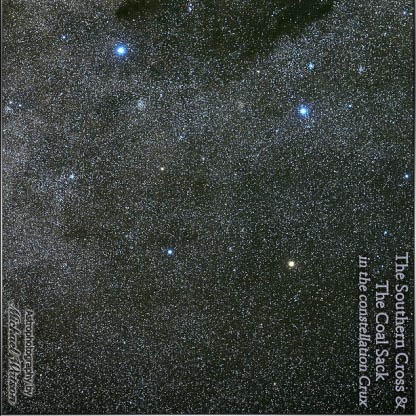Southern Cross: (106, 31, 137, 64), (156, 237, 184, 267), (289, 96, 318, 122), (278, 251, 303, 278)
